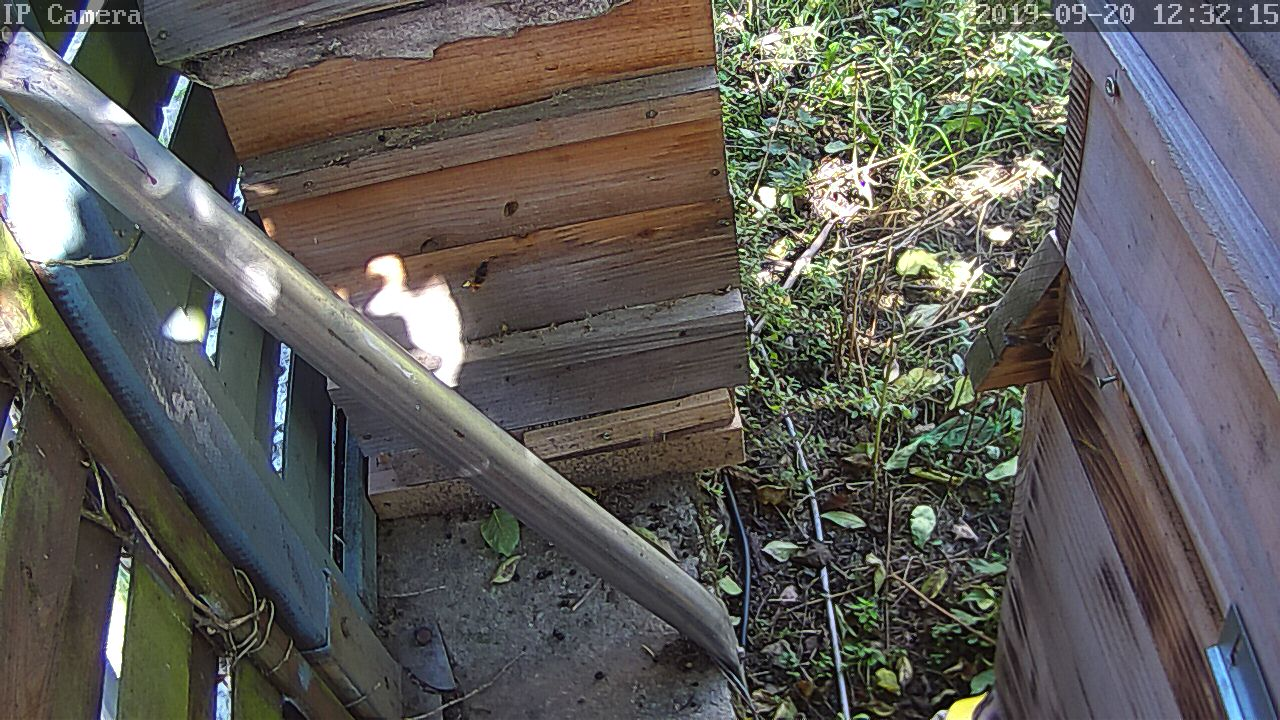hornet: (455, 248, 494, 293)
